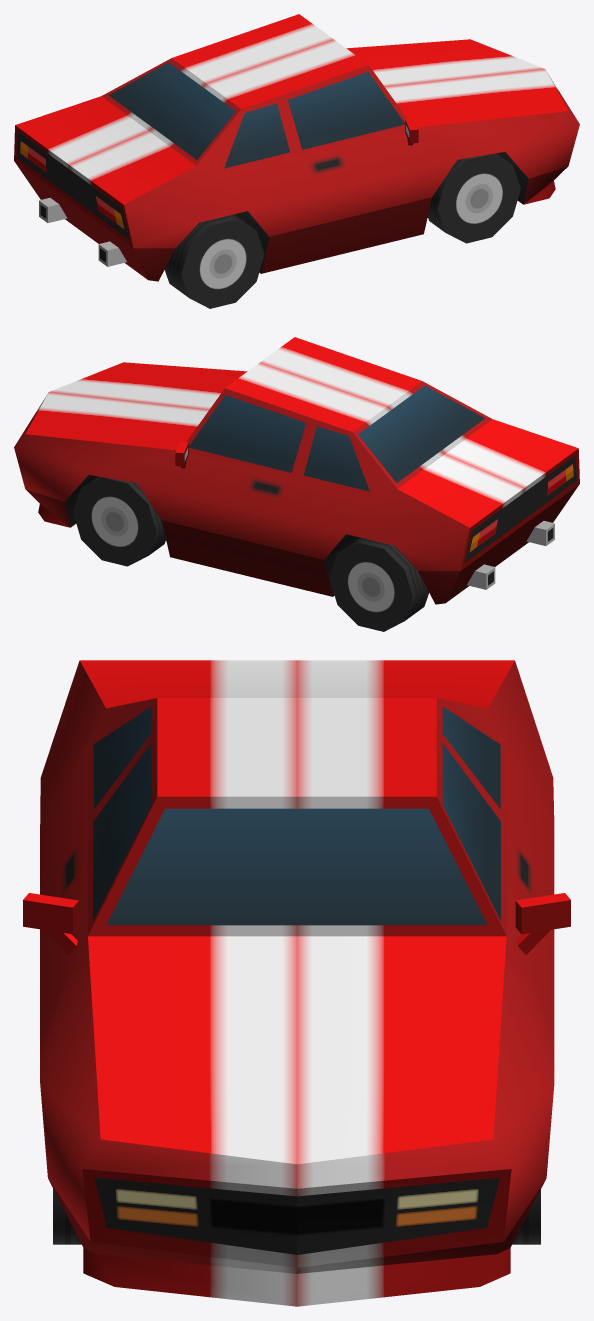
Rendered from Car_237.glb.
3 views of the same model, one above another, from view 1: azimuth 30°, elevation 25°; view 2: azimuth 150°, elevation 25°; view 3: azimuth 270°, elevation 25° (orthographic). The views are drawn at different scales.
Visible parts, largest first — view 1: Car_237, wheel_3_Car_237_Wheel_2R, wheel_1_Car_237_Wheel_1R; view 2: Car_237, wheel_2_Car_237_Wheel_2L, wheel_0_Car_237_Wheel_1L; view 3: Car_237, wheel_1_Car_237_Wheel_1R, wheel_0_Car_237_Wheel_1L.
Part boxes in pixels (x1,y1,x2,y2): Car_237: (14, 14, 579, 281); wheel_3_Car_237_Wheel_2R: (164, 214, 264, 308); wheel_1_Car_237_Wheel_1R: (428, 153, 520, 243); Car_237: (14, 337, 579, 604); wheel_2_Car_237_Wheel_2L: (329, 537, 429, 631); wheel_0_Car_237_Wheel_1L: (73, 476, 165, 566); Car_237: (23, 660, 570, 1306); wheel_1_Car_237_Wheel_1R: (53, 1188, 81, 1244); wheel_0_Car_237_Wheel_1L: (512, 1189, 540, 1244).
Size of the model in its own units: 4.03 by 1.43 by 2.
1 material, 1 textured.
